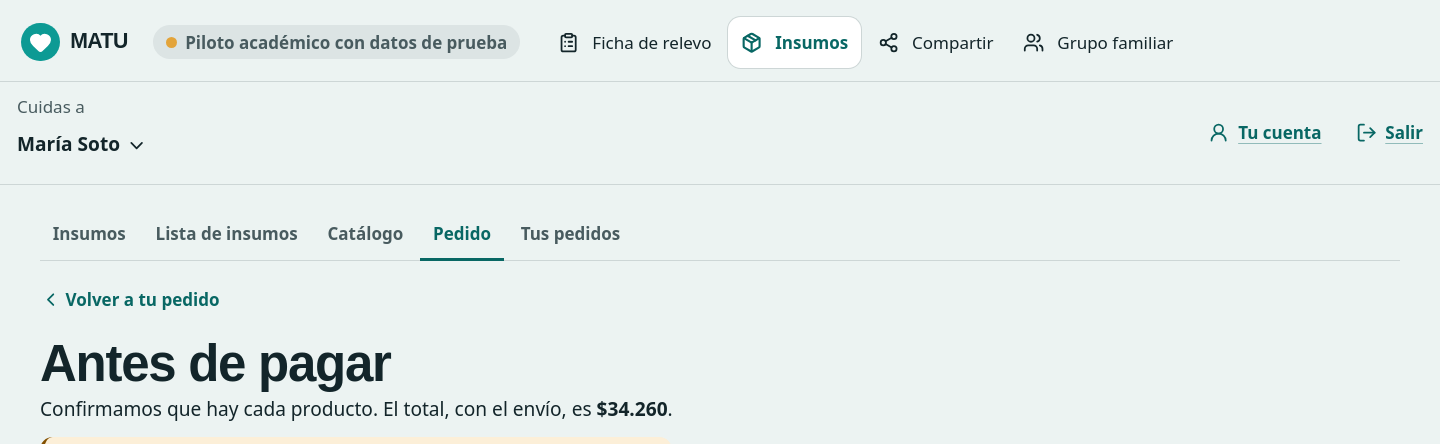
El pedido en la app de la familia › 2.3: cambiar de persona desde el resumen lleva a «Tu pedido» de la otra persona, sin su id en la URL
(page scrolled)
Expected: the heading "Antes de pagar" is shown, [40,334,391,392]
Click the button "María Soto": (82, 145) [17,120,148,171]
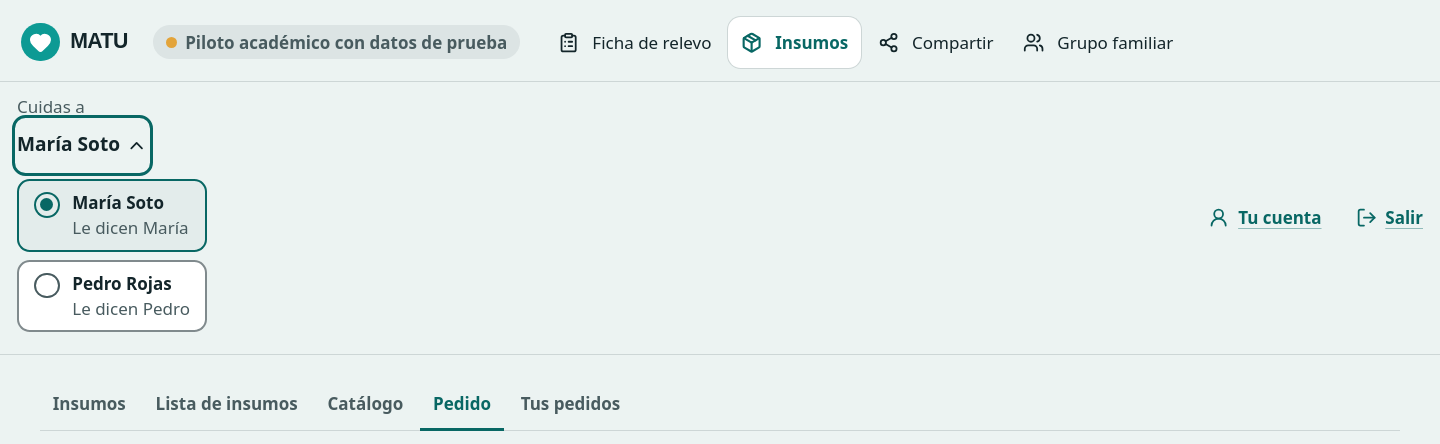
Click the radio button labelled "Pedro Rojas Le dicen Pedro": (112, 296) [17,260,207,332]
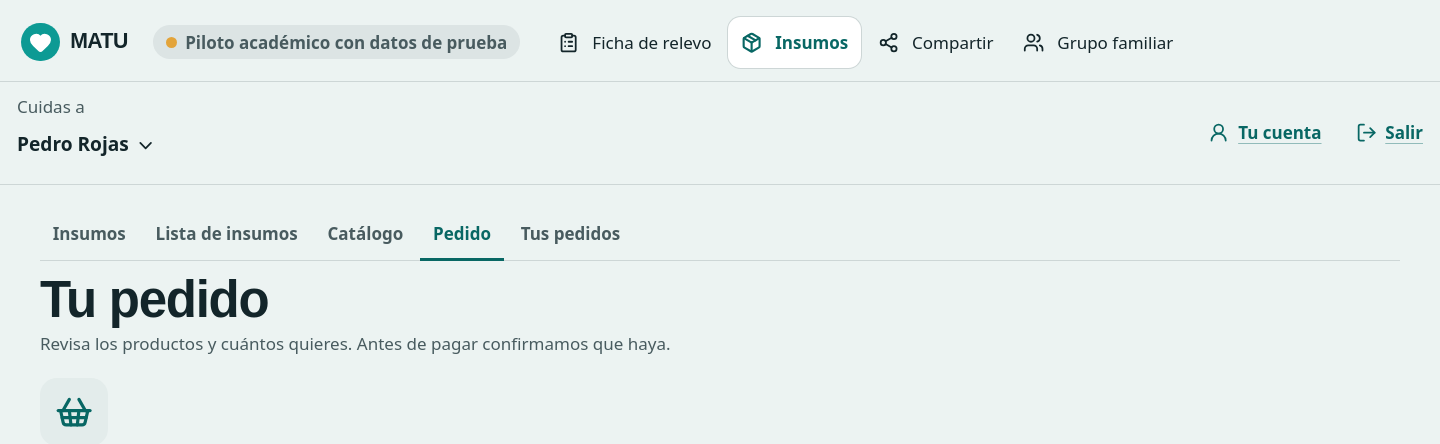
Expected: the heading "Tu pedido" is shown, [40,271,268,328]
